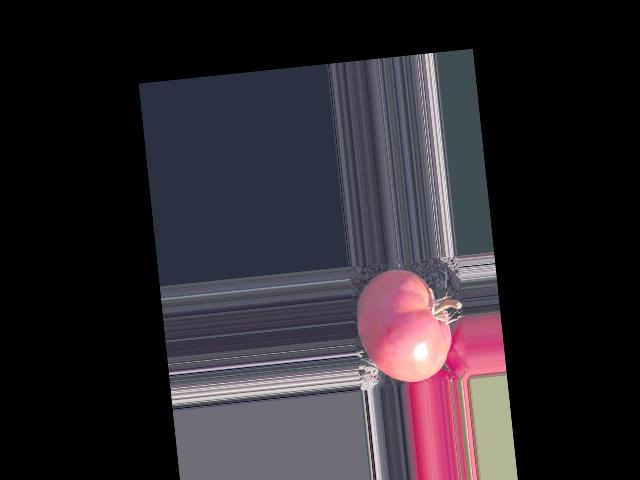tomato: (351, 264, 454, 387)
